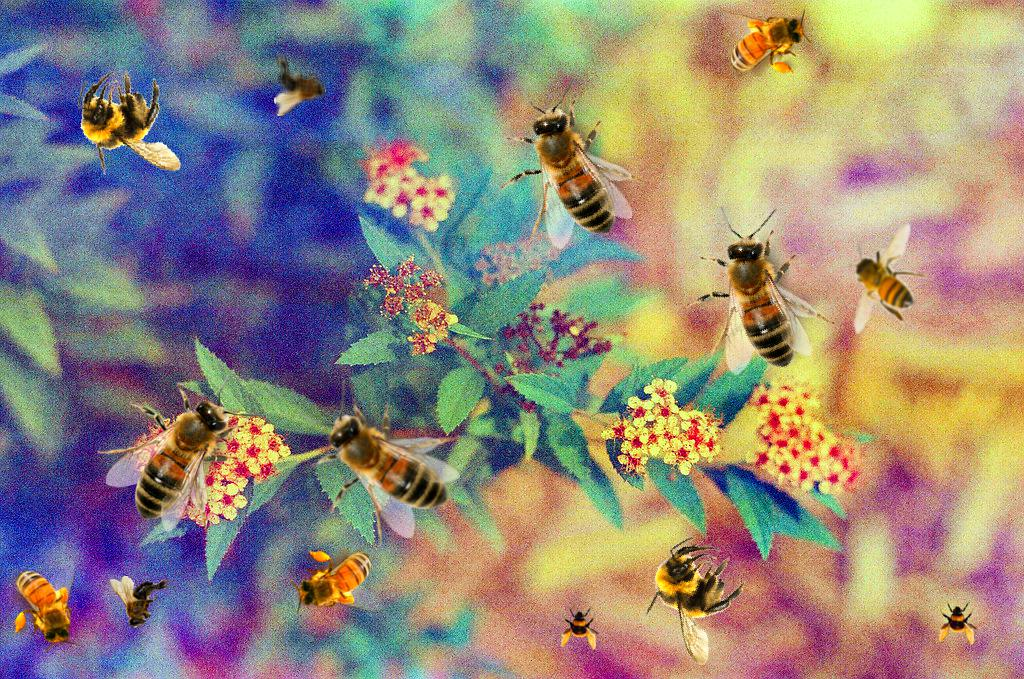Bee: (639, 180, 870, 412), (455, 56, 678, 280), (298, 380, 460, 547), (97, 370, 264, 532), (618, 523, 773, 679), (63, 61, 200, 192), (840, 223, 934, 334), (291, 547, 384, 615), (718, 9, 811, 77), (11, 558, 79, 651), (110, 576, 172, 629), (274, 54, 327, 116), (937, 601, 981, 645), (559, 606, 603, 650)
